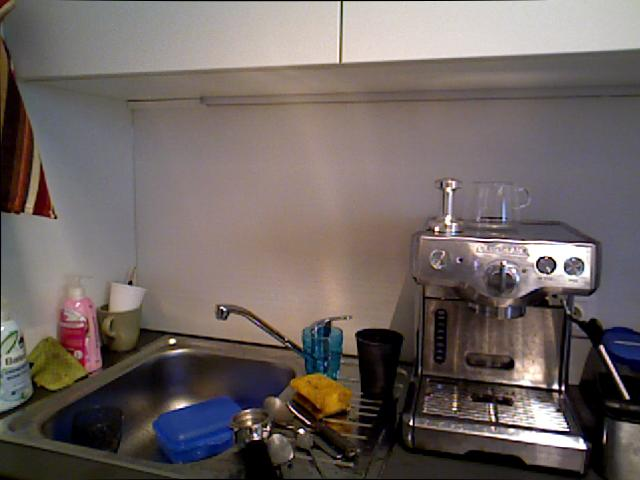bench: (58, 266, 101, 374), (3, 302, 33, 415)
couch: (1, 341, 300, 478)
cup: (288, 395, 360, 464)
handbag: (69, 398, 130, 461), (354, 324, 404, 390), (465, 178, 530, 227), (303, 323, 345, 380), (97, 303, 141, 351)
oven: (399, 216, 600, 474)
toilet: (261, 393, 345, 457), (293, 425, 339, 480), (265, 433, 302, 480)
